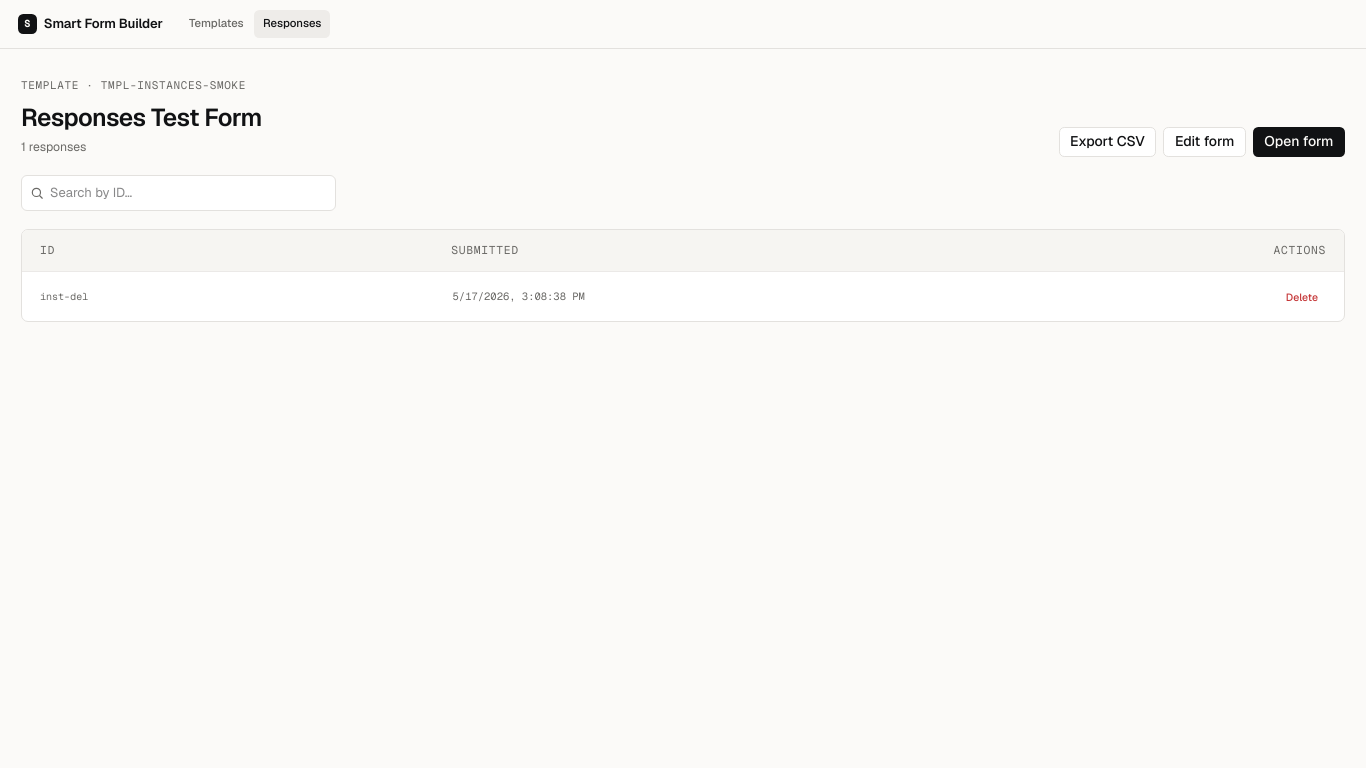
InstancesPage › delete flow › opens a confirmation modal when a Delete button is clicked
Click the button "Delete": (1302, 297) [1278,284,1326,309]
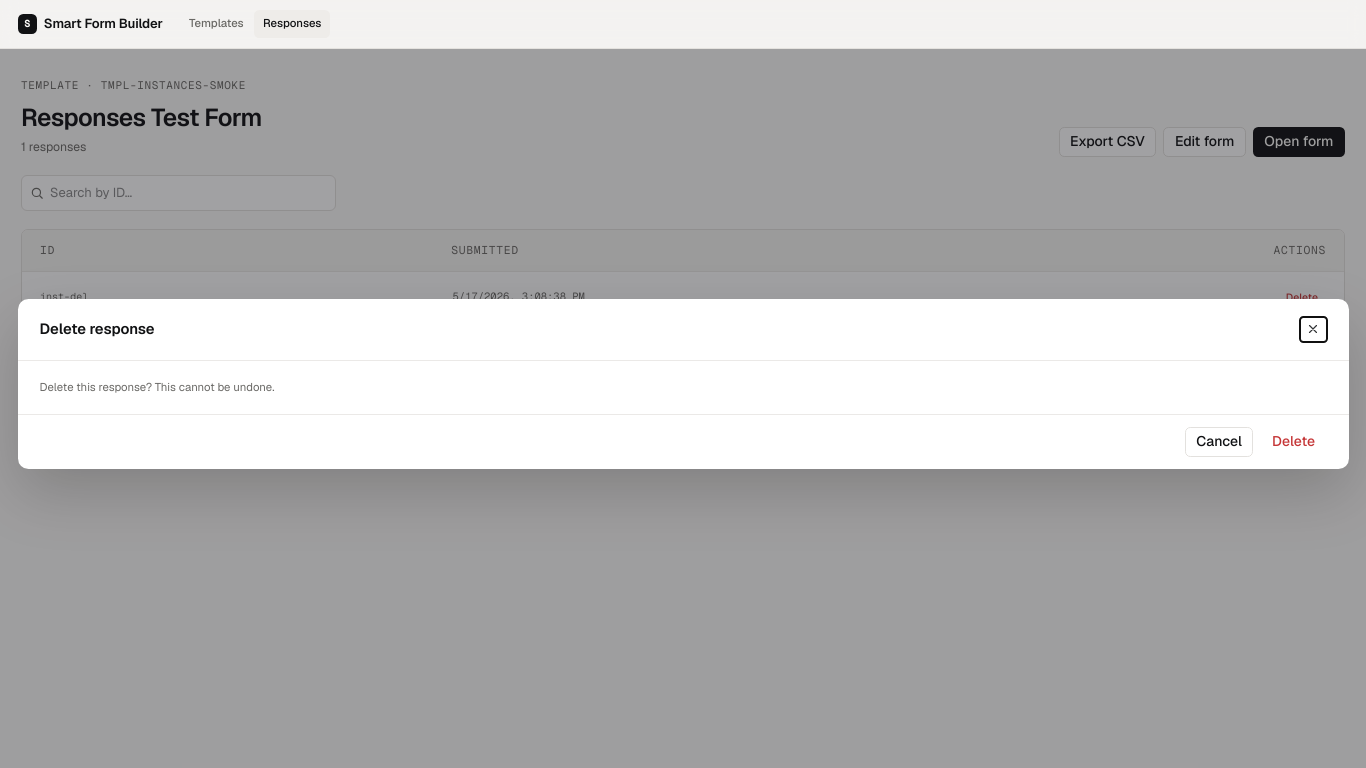
Check: the text "Delete this response? This cannot be undone." is shown, box [40,380,274,394]
